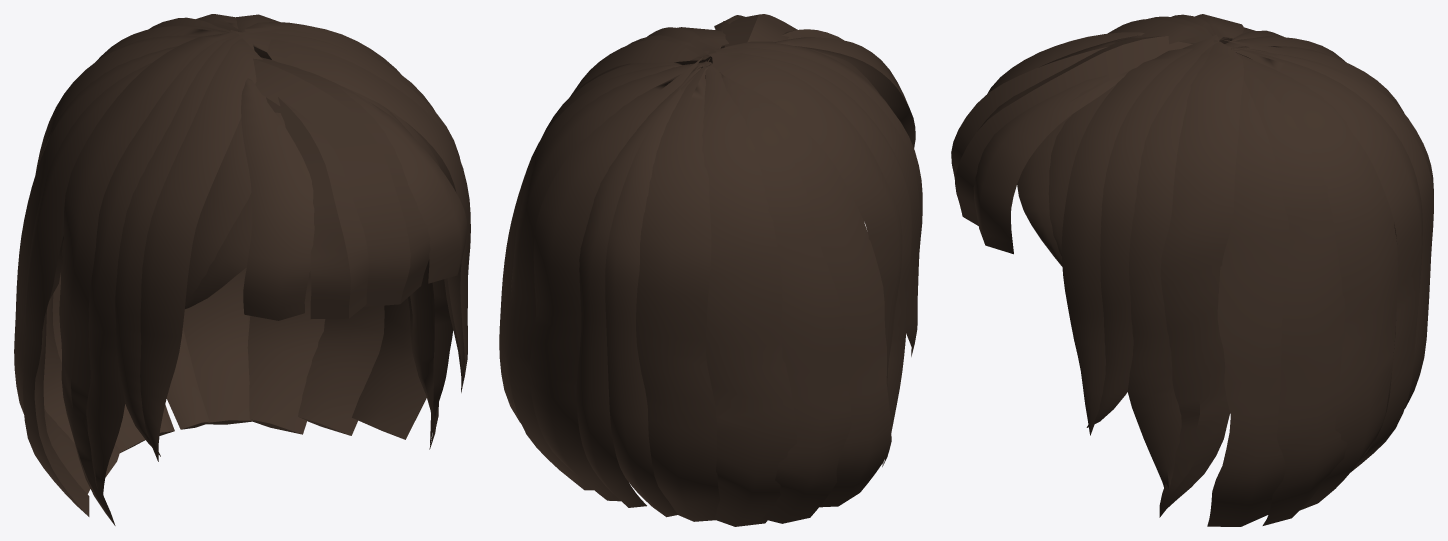
File: hair_bob_male.glb
3 views of the same model, side by side, from view 1: azimuth 30°, elevation 25°; view 2: azimuth 150°, elevation 25°; view 3: azimuth 270°, elevation 25° (orthographic). The views are drawn at different scales.
Visible parts, largest first — view 1: hair_bob_male; view 2: hair_bob_male; view 3: hair_bob_male.
Part boxes in pixels (x1,y1,x2,y2): hair_bob_male: (14,14,470,525); hair_bob_male: (499,14,922,526); hair_bob_male: (951,14,1433,526).
Bounding box in the file's own units: 0.2166 × 0.237 × 0.2402.
